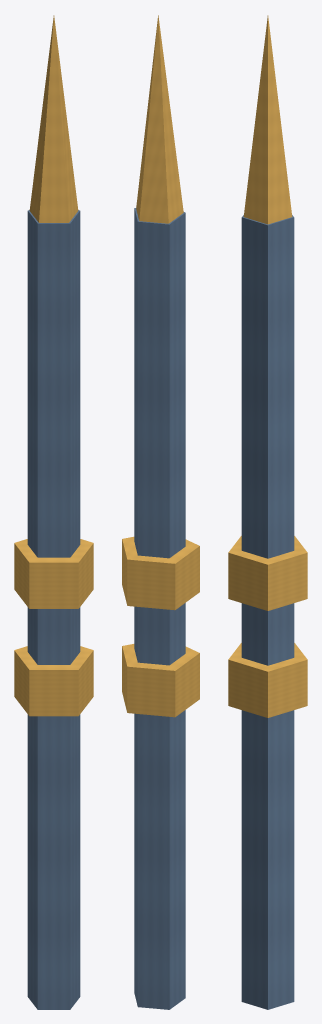
Rendered from atlas100-s051-a05.lod1.glb.
3 views of the same model, side by side, from view 1: azimuth 90°, elevation 25°; view 2: azimuth 150°, elevation 25°; view 3: azimuth 270°, elevation 25° (orthographic).
Parts seen in each view (by area): view 1: atlas100-s051-a05:part-000, atlas100-s051-a05:part-004, atlas100-s051-a05:part-002, atlas100-s051-a05:part-003; view 2: atlas100-s051-a05:part-000, atlas100-s051-a05:part-004, atlas100-s051-a05:part-002, atlas100-s051-a05:part-003; view 3: atlas100-s051-a05:part-000, atlas100-s051-a05:part-004, atlas100-s051-a05:part-002, atlas100-s051-a05:part-003.
Part boxes in pixels (<box>): atlas100-s051-a05:part-000: <box>27,210,80,1009</box>; atlas100-s051-a05:part-004: <box>29,15,78,222</box>; atlas100-s051-a05:part-002: <box>14,646,93,716</box>; atlas100-s051-a05:part-003: <box>14,539,93,608</box>; atlas100-s051-a05:part-000: <box>134,208,185,1009</box>; atlas100-s051-a05:part-004: <box>136,15,183,223</box>; atlas100-s051-a05:part-002: <box>122,644,199,717</box>; atlas100-s051-a05:part-003: <box>122,536,199,610</box>; atlas100-s051-a05:part-000: <box>241,215,294,1009</box>; atlas100-s051-a05:part-004: <box>243,15,292,224</box>; atlas100-s051-a05:part-002: <box>228,643,307,717</box>; atlas100-s051-a05:part-003: <box>228,536,307,610</box>.
Bounding box in the file's own units: 0.1047 × 1.51 × 0.1101.
Materials: 2 (2 with a texture image).
